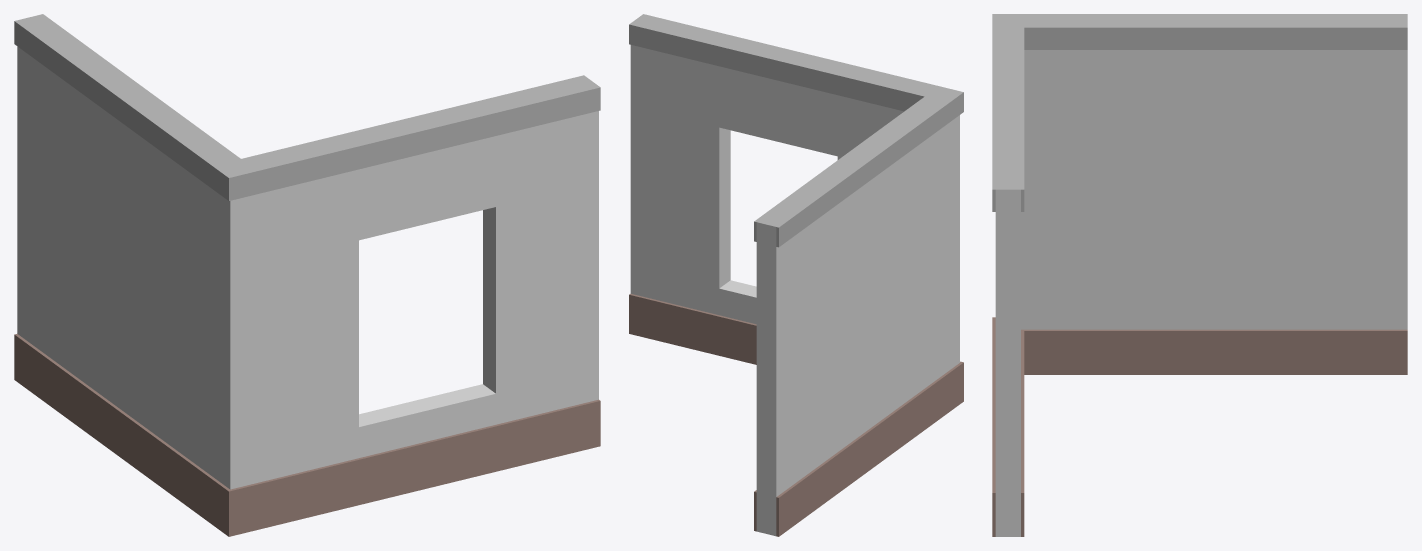
Rendered from Wall04-01.fbx.
3 renders of one model, left to right at view 1: azimuth 30°, elevation 25°; view 2: azimuth 150°, elevation 25°; view 3: azimuth 270°, elevation 25°, orthographic. The views are drawn at different scales.
Visible parts, largest first — view 1: Wall04-01; view 2: Wall04-01; view 3: Wall04-01.
Boxes of the visible parts, <box> form: Wall04-01: <box>14,14,600,536</box>; Wall04-01: <box>629,14,963,536</box>; Wall04-01: <box>992,14,1407,536</box>.
Size of the model in its own units: 3.25 by 3.25 by 3.
